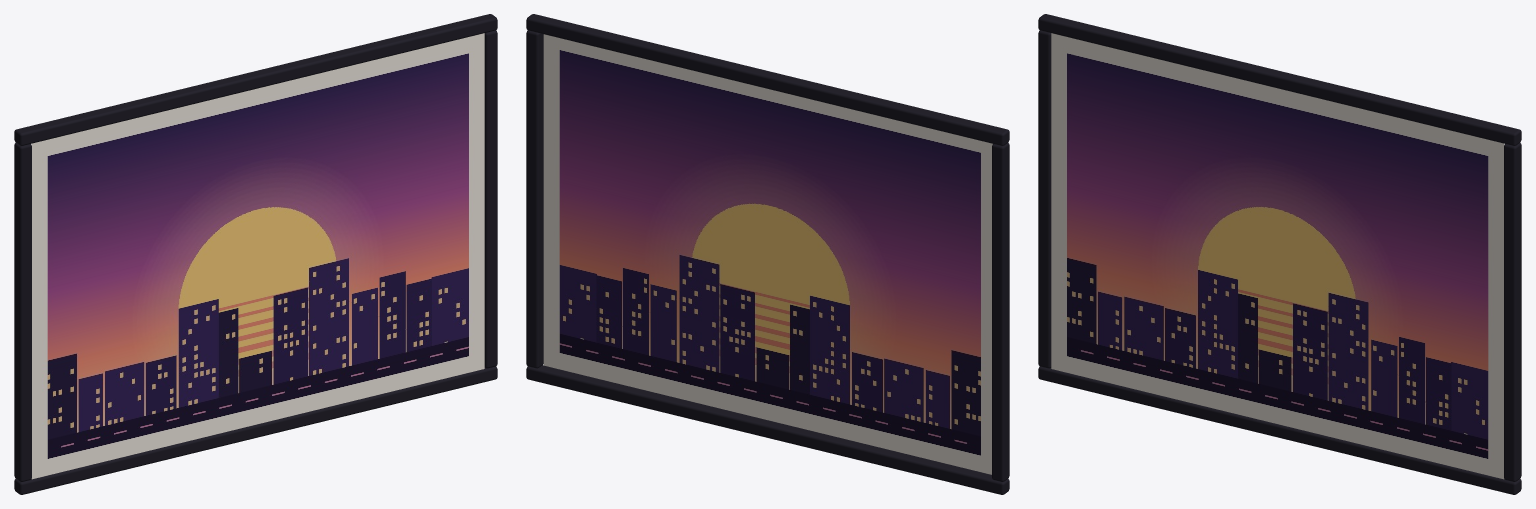
File: poster_city.fbx
3 renders of one model, left to right at view 1: azimuth 30°, elevation 25°; view 2: azimuth 150°, elevation 25°; view 3: azimuth 330°, elevation 25°, orthographic.
Visible parts, largest first — view 1: poster_city; view 2: poster_city; view 3: poster_city.
Part boxes in pixels (bbox=[...]): poster_city: bbox=[14, 14, 497, 494]; poster_city: bbox=[526, 14, 1009, 494]; poster_city: bbox=[1038, 14, 1521, 494].
Bounding box in the file's own units: 0.844 × 0.611 × 0.022.
